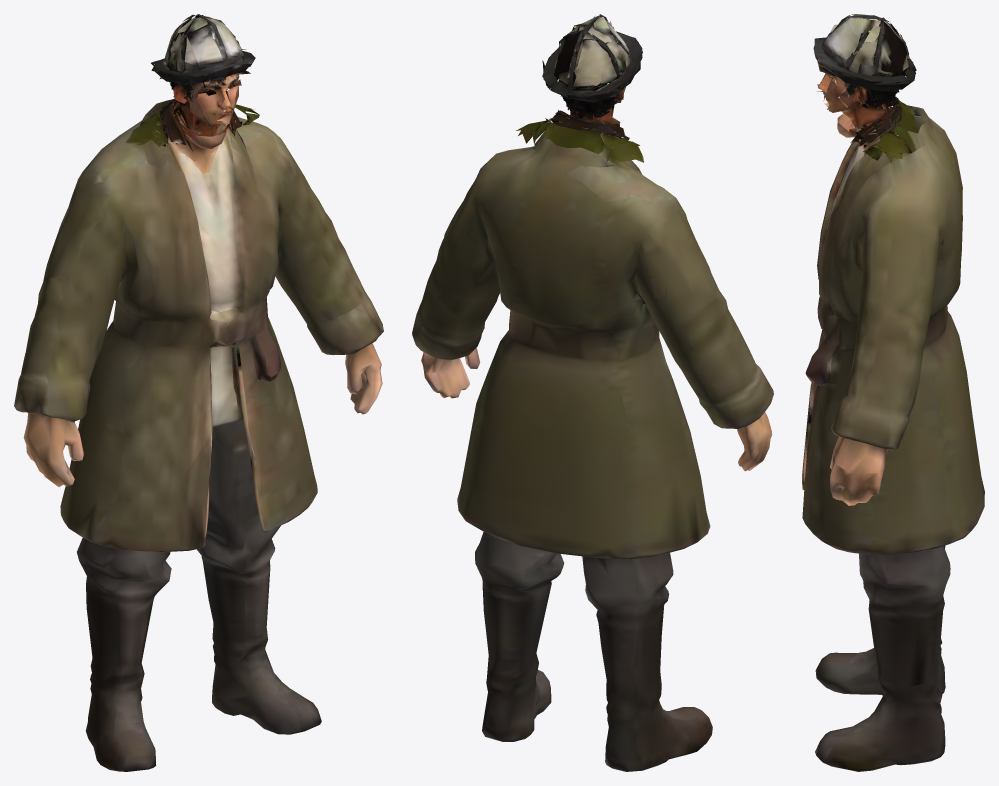
The model's file is herder-erlan.gen.phone.glb.
The picture shows the model from 3 angles, left to right: view 1: azimuth 30°, elevation 25°; view 2: azimuth 150°, elevation 25°; view 3: azimuth 270°, elevation 25°; orthographic projection. The views are drawn at different scales.
Parts seen in each view (by area): view 1: herder-erlan.raw; view 2: herder-erlan.raw; view 3: herder-erlan.raw.
Boxes of the visible parts, box(x1,y1,x2,y2) form: herder-erlan.raw: box(14, 14, 383, 771); herder-erlan.raw: box(412, 14, 773, 771); herder-erlan.raw: box(802, 14, 984, 771).
Size of the model in its own units: 0.9567 by 1.85 by 0.4318.
Materials: 1 (1 with a texture image).
